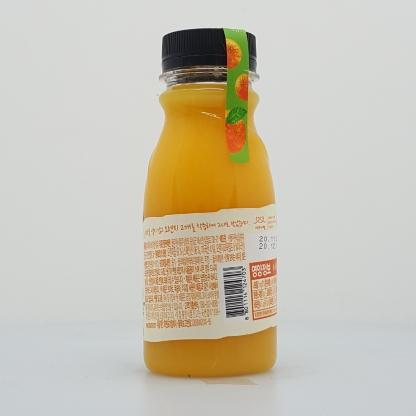-----------------190ML: (143, 27, 277, 377)
